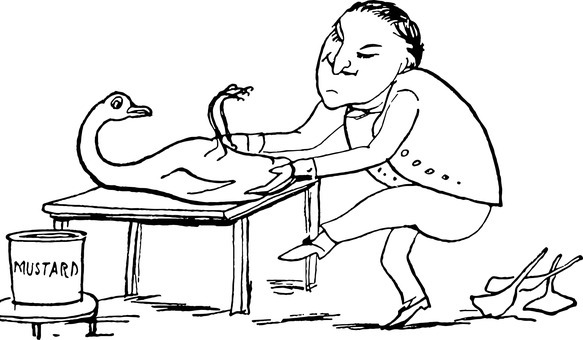bird: (73, 81, 295, 211)
diningtable: (43, 168, 329, 316)
person: (246, 1, 505, 332)
